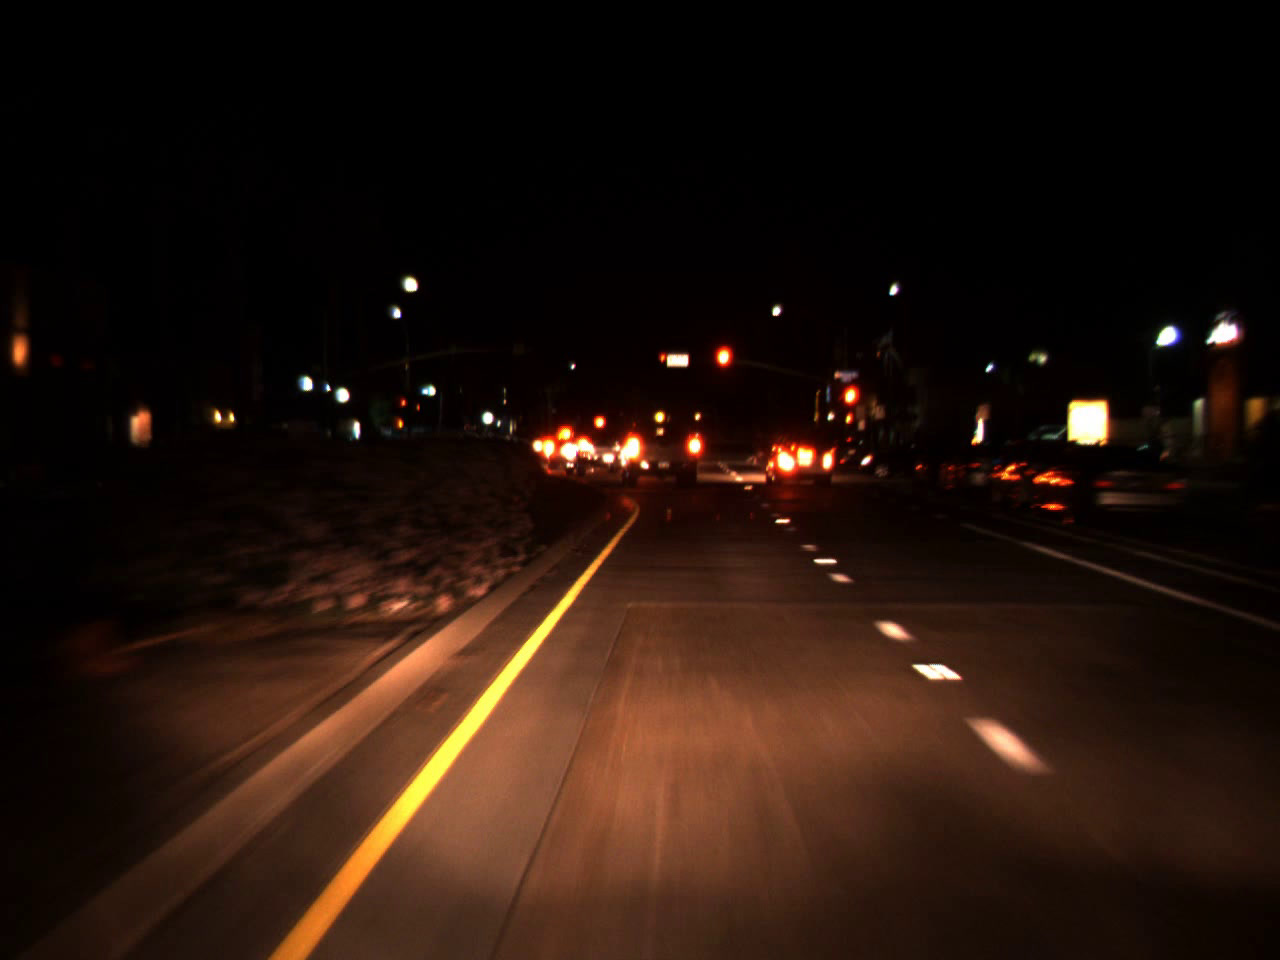stop: (713, 342, 735, 393), (840, 381, 862, 432), (658, 352, 665, 373), (400, 398, 406, 414)
